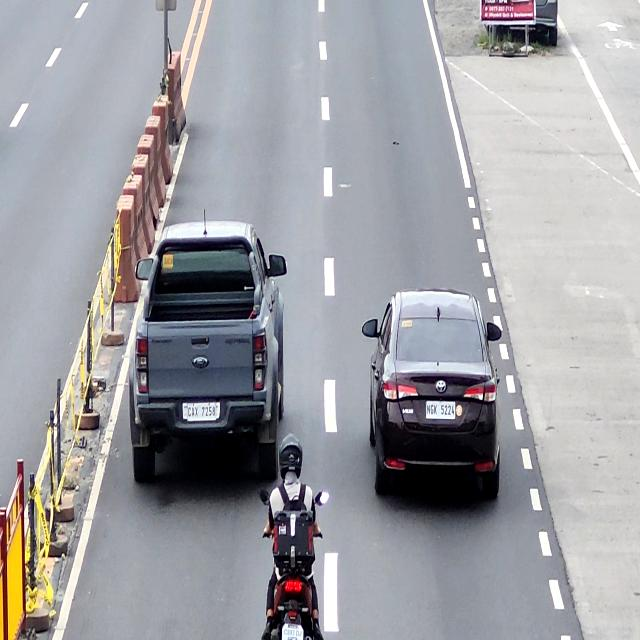Car: (127, 221, 287, 489), (361, 288, 503, 498)
License-Plate: (426, 399, 456, 420), (186, 404, 217, 423), (282, 622, 304, 640)
Motorcycle: (258, 482, 328, 640)
